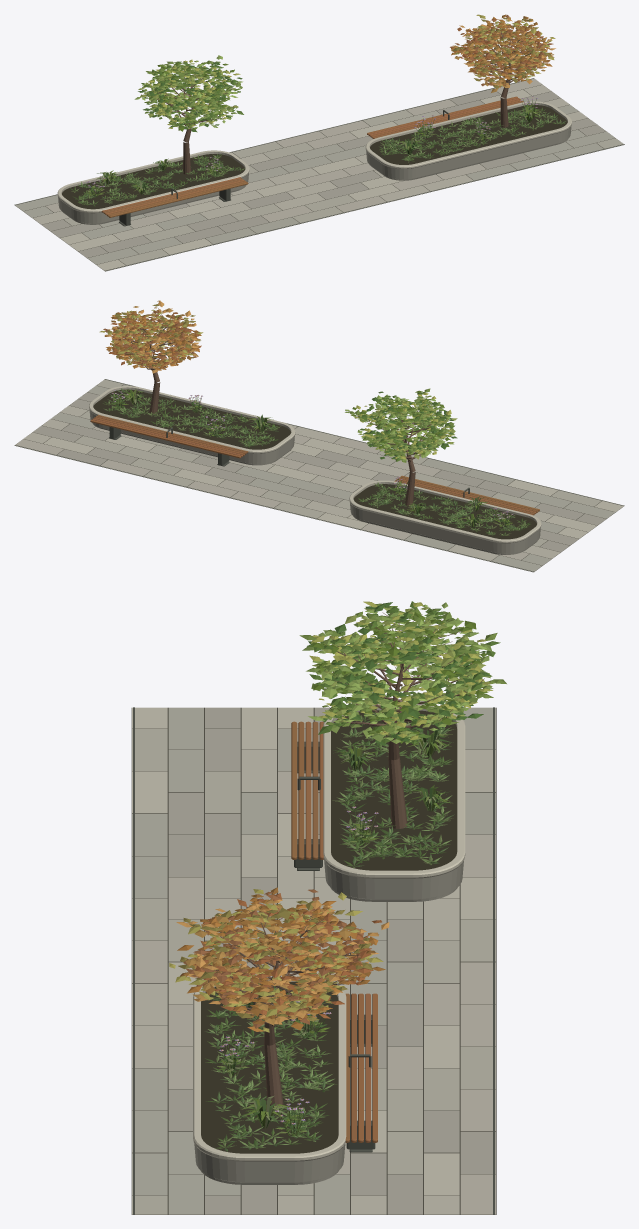
Rendered from north_court.glb.
The picture shows the model from 3 angles, top to bottom: view 1: azimuth 30°, elevation 25°; view 2: azimuth 150°, elevation 25°; view 3: azimuth 270°, elevation 25°; orthographic projection. The views are drawn at different scales.
Visible parts, largest first — view 1: North Garden / paving, North Garden / leaves, North Garden / earth, North Garden / plant, North Garden / kerb, North Garden / joints, North Garden / coping, North Garden / seat, North Garden / bark, North Garden / steel; view 2: North Garden / paving, North Garden / leaves, North Garden / earth, North Garden / plant, North Garden / kerb, North Garden / joints, North Garden / coping, North Garden / seat, North Garden / bark, North Garden / steel; view 3: North Garden / paving, North Garden / leaves, North Garden / earth, North Garden / plant, North Garden / seat, North Garden / coping, North Garden / joints, North Garden / kerb, North Garden / bark, North Garden / steel.
Part boxes in pixels (box(x1,y1,x2,y2)): North Garden / paving: box(14, 78, 623, 271); North Garden / leaves: box(134, 14, 555, 132); North Garden / earth: box(62, 105, 567, 209); North Garden / plant: box(70, 99, 565, 206); North Garden / kerb: box(58, 125, 571, 224); North Garden / joints: box(15, 84, 624, 271); North Garden / coping: box(57, 101, 571, 213); North Garden / seat: box(101, 96, 523, 217); North Garden / bark: box(141, 22, 542, 174); North Garden / steel: box(15, 78, 624, 270); North Garden / paving: box(14, 379, 623, 571); North Garden / leaves: box(99, 300, 457, 462); North Garden / earth: box(93, 389, 536, 539); North Garden / plant: box(103, 388, 530, 535); North Garden / kerb: box(89, 410, 540, 554); North Garden / joints: box(16, 384, 623, 572); North Garden / coping: box(89, 386, 541, 543); North Garden / seat: box(90, 414, 539, 515); North Garden / bark: box(121, 308, 445, 506); North Garden / steel: box(15, 379, 624, 571); North Garden / paving: box(132, 707, 495, 1214); North Garden / leaves: box(169, 601, 506, 1032); North Garden / earth: box(201, 710, 457, 1153); North Garden / plant: box(205, 707, 454, 1151); North Garden / seat: box(291, 721, 377, 1142); North Garden / coping: box(193, 704, 465, 1161); North Garden / joints: box(131, 707, 496, 1214); North Garden / kerb: box(194, 860, 463, 1184); North Garden / bark: box(193, 612, 484, 1106); North Garden / steel: box(133, 707, 494, 1214).
Size of the model in its own units: 17.1 by 3.7 by 5.35.
